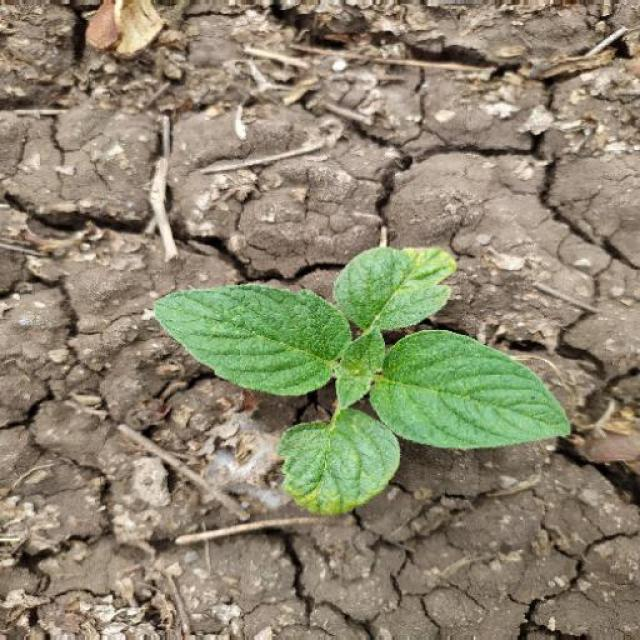crop: (138, 231, 578, 529)
